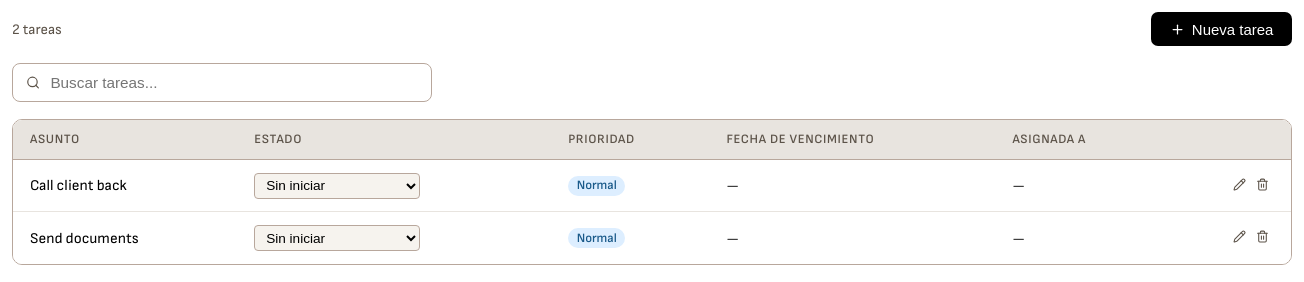
TasksTab — UI behaviour › filters by search term
Expected: the text "Call client back" is shown, [30, 177, 127, 194]
Type "send" into the search field with placeholder "Buscar tareas..." at (233, 82), box [48, 72, 418, 92]
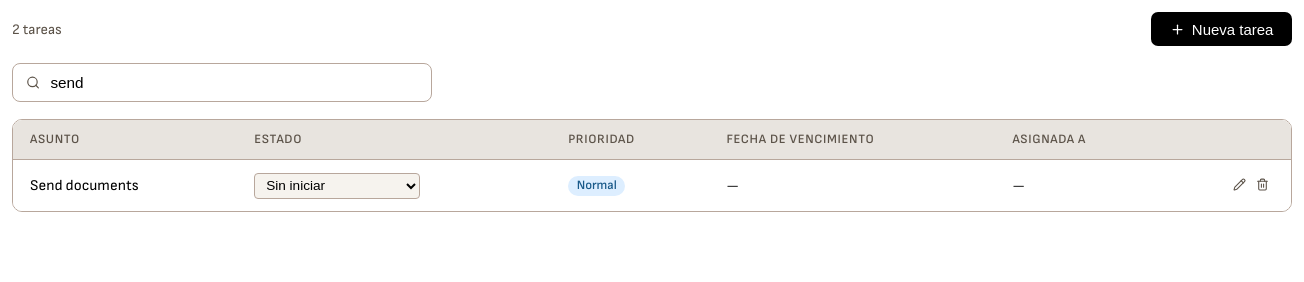
Expected: the text "Send documents" is shown, [30, 177, 139, 194]
Expected: the text "Call client back" is gone
